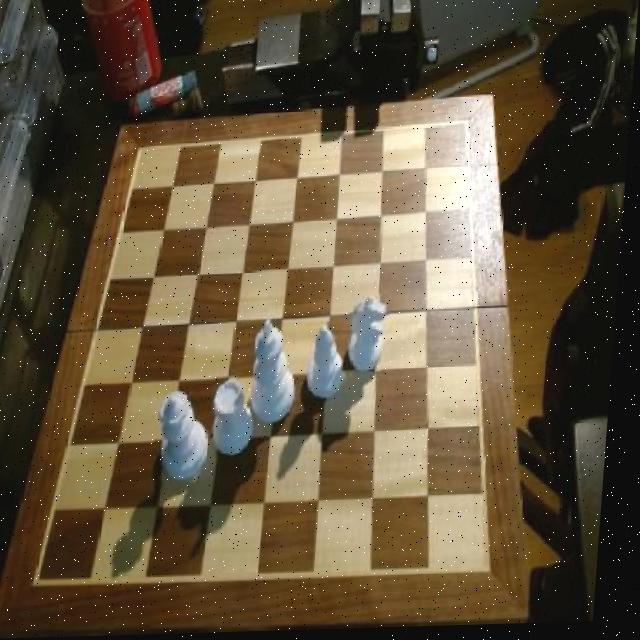black-rook: (308, 324, 354, 406)
white-bishop: (252, 319, 307, 427)
white-king: (348, 295, 395, 380)
white-pawn: (159, 390, 221, 485)
white-queen: (214, 378, 264, 460)
